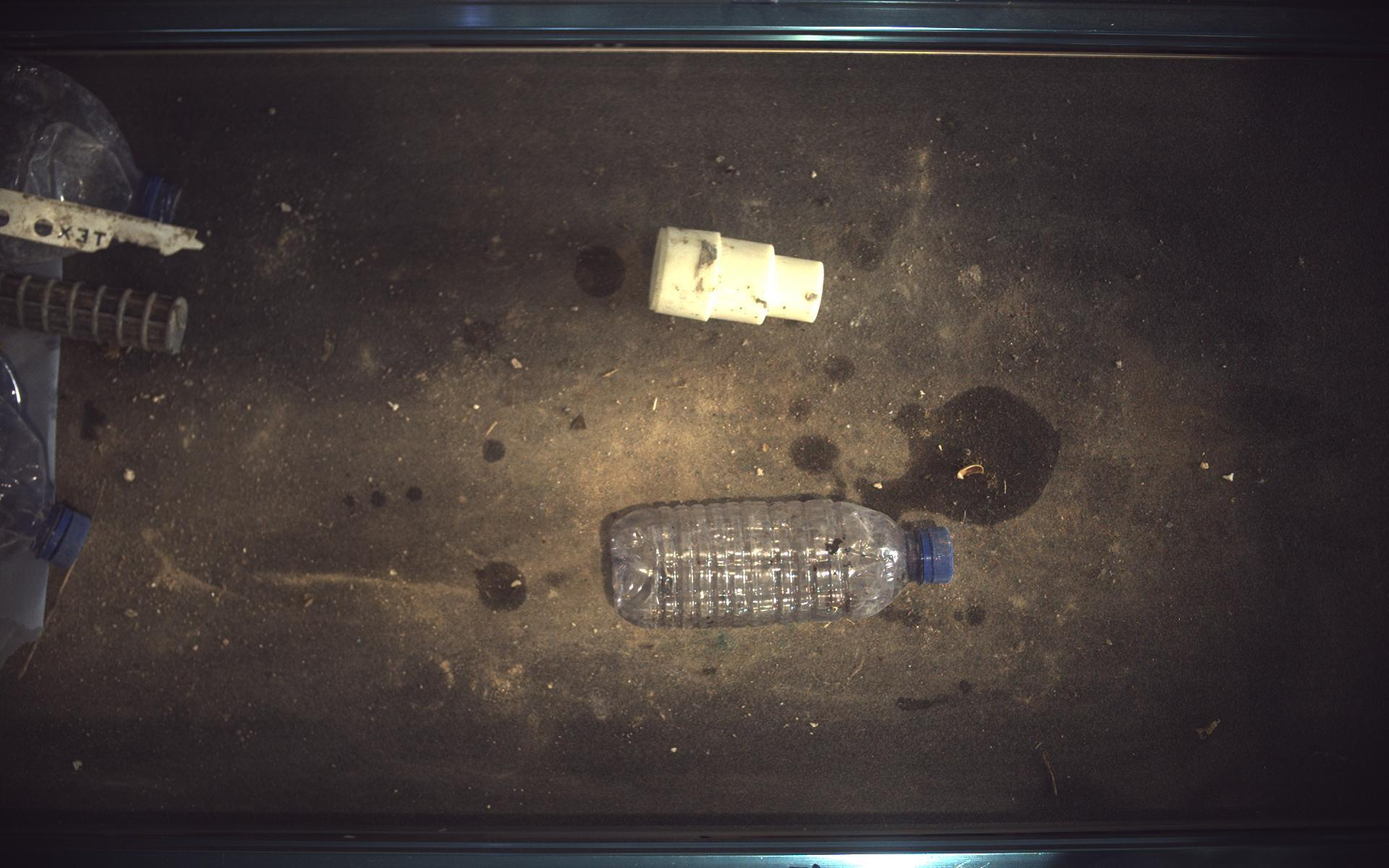general_w: (603, 499, 956, 629)
plastic: (650, 226, 824, 324)
